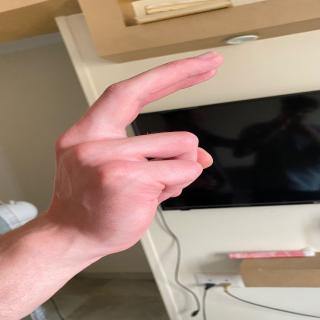ZAY: (38, 42, 262, 264)
